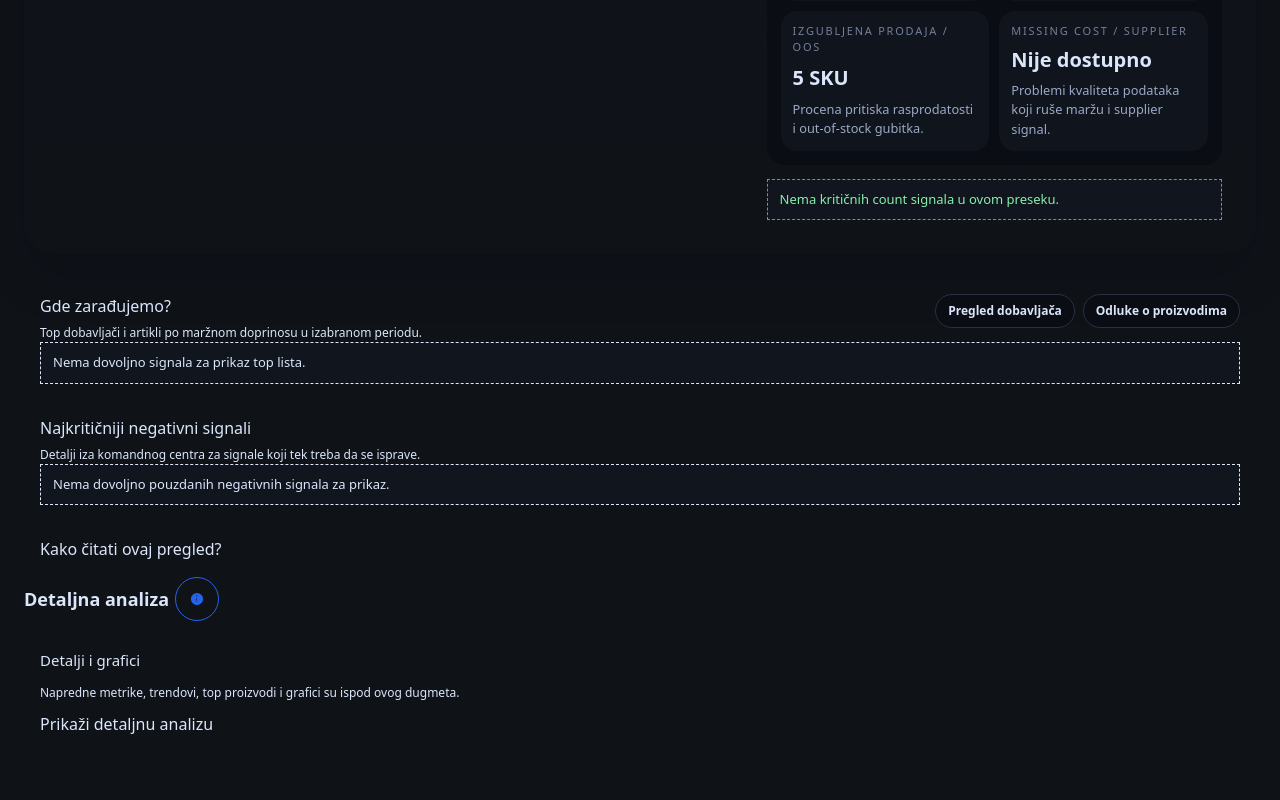
Test: AnalyticsDashboard table system › keeps top-table render and export row counts in sync through the shared table surface
(page scrolled)
Step 1. Click the button "Prikaži detaljnu analizu" → coordinates (127, 724), box [40,712,213,736]
(page scrolled)
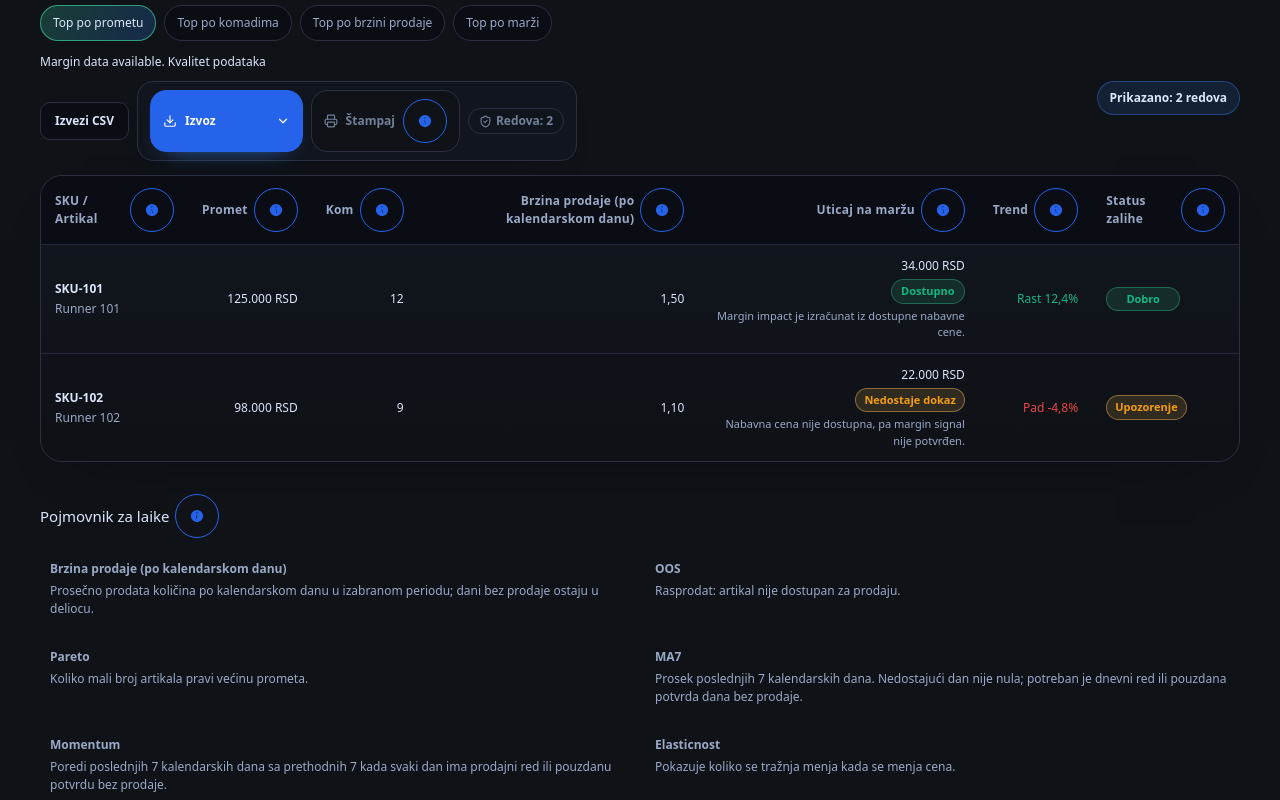
Now the number of rows is 3, box [41,176,1239,246]; [41,246,1239,354]; [41,354,1239,462]
Now the text "Prikazano: 2 redova" is shown, box [1096,82,1240,116]
Now the text "Redova: 2" is shown, box [468,108,564,134]
